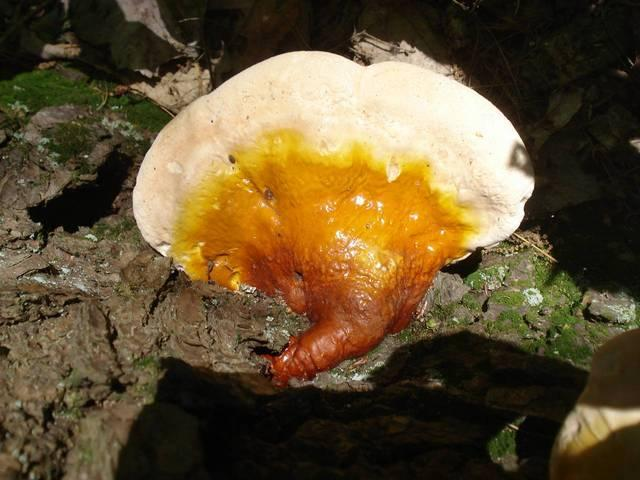Non-edible Mushroom: (130, 48, 536, 388)
